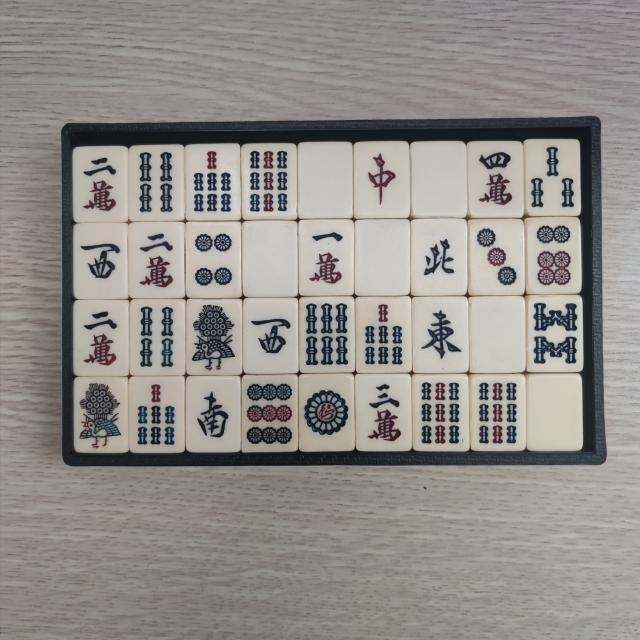hdr: (359, 146, 402, 212)
hdw: (361, 225, 407, 290), (534, 381, 578, 447), (417, 146, 462, 210), (476, 304, 520, 369), (306, 150, 350, 215), (250, 227, 294, 290)
hwe: (418, 301, 466, 367)
hwn: (417, 226, 462, 292)
hws: (191, 381, 235, 446)
hww: (250, 303, 296, 368), (80, 230, 124, 294)
sb1: (192, 304, 240, 374), (79, 382, 125, 452)
sb3: (530, 144, 578, 213)
sb4: (134, 150, 178, 217), (135, 304, 178, 372)
sb6: (306, 304, 352, 371)
sb7: (135, 380, 181, 448), (190, 148, 236, 216), (361, 303, 407, 370)
sb8: (532, 299, 580, 369)
sb9: (246, 148, 292, 217), (475, 379, 520, 448), (420, 380, 464, 450)
sc1: (304, 227, 348, 292)
sc2: (133, 229, 178, 296), (78, 307, 122, 374), (77, 153, 121, 218)
sc3: (362, 380, 406, 447)
sc4: (474, 144, 519, 210)
sd1: (302, 381, 350, 448)
sd3: (475, 222, 521, 290)
sd4: (192, 226, 236, 292)
sd6: (530, 222, 574, 290)
sd9: (246, 380, 295, 448)
